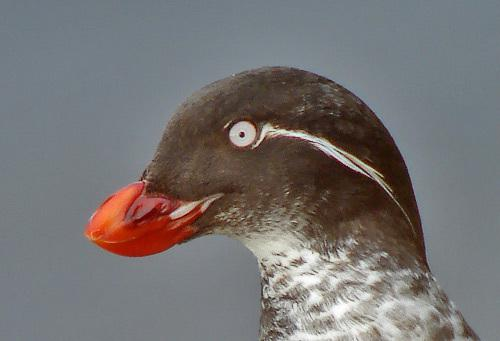007.Parakeet_Auklet: (80, 65, 484, 341)
